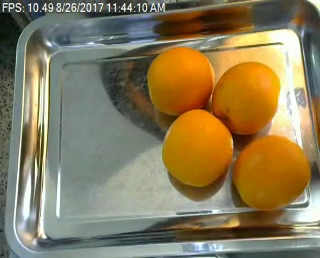Orange: (234, 134, 312, 211), (161, 108, 235, 187), (211, 60, 280, 135), (147, 46, 215, 115)
